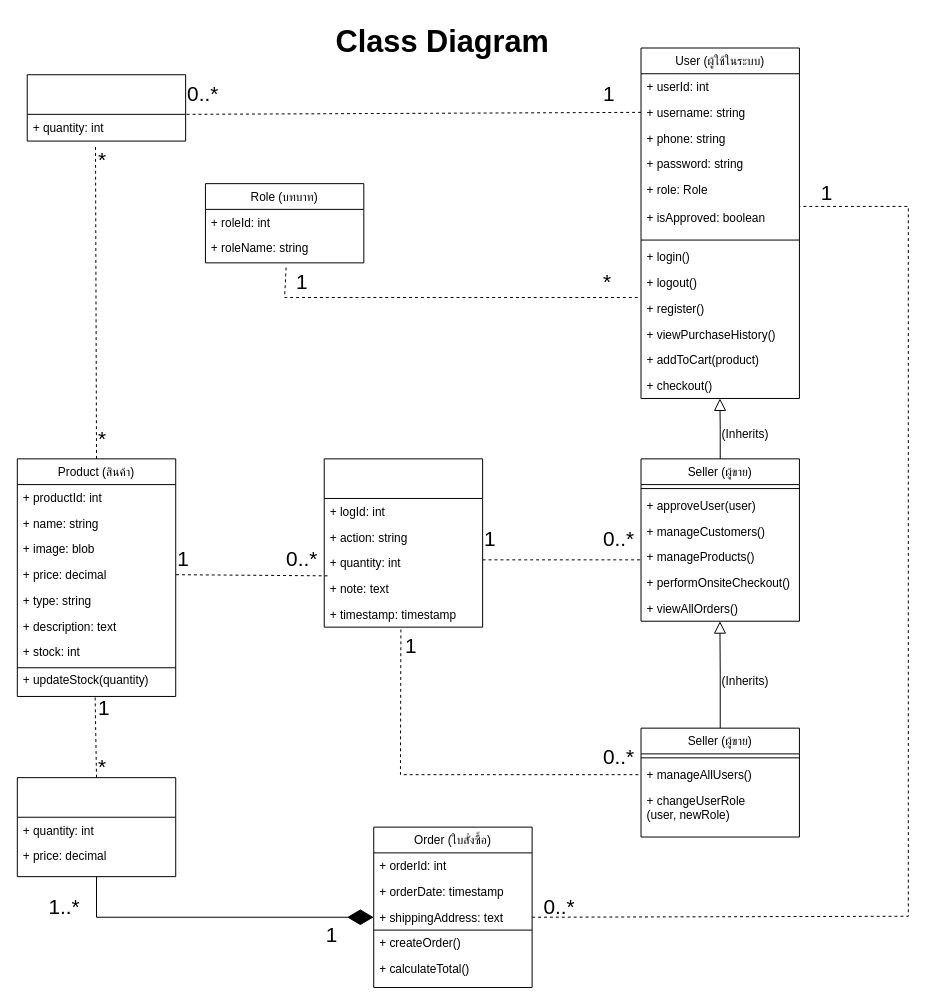
Some shapes in this 927 by 1005 pixel diagram are drawn without their labels. The box of each missing label's shape, as (x1, y1, x2, y2) in pixels:
CartItem (รายการสินค้าในตะกร้า): (26, 74, 186, 141)
OrderItem (รายการสินค้าในใบสั่งซื้อ): (16, 777, 176, 877)
ProductLog (ประวัติการจัดการสินค้า): (323, 458, 483, 627)
